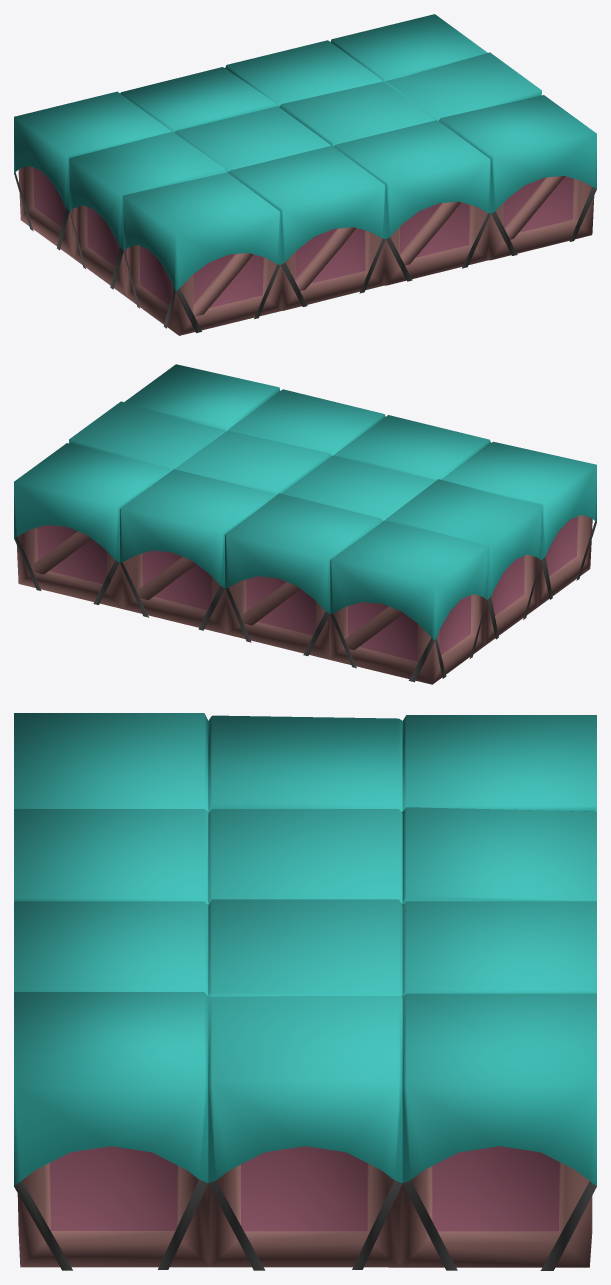
Rendered from obstacle-crate_platform_H1W3.glb.
3 views of the same model, one above another, from view 1: azimuth 30°, elevation 25°; view 2: azimuth 150°, elevation 25°; view 3: azimuth 270°, elevation 25° (orthographic). The views are drawn at different scales.
Parts seen in each view (by area): view 1: obstacle-crate_platform_H1W3; view 2: obstacle-crate_platform_H1W3; view 3: obstacle-crate_platform_H1W3.
Part boxes in pixels (<box>): obstacle-crate_platform_H1W3: <box>14,14,596,335</box>; obstacle-crate_platform_H1W3: <box>14,364,596,684</box>; obstacle-crate_platform_H1W3: <box>14,713,596,1270</box>.
Size of the model in its own units: 9 by 2.17 by 6.
